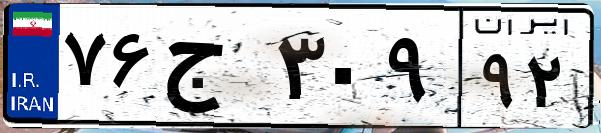0: (330, 28, 385, 110)
2: (525, 38, 570, 115)
3: (270, 28, 330, 110)
6: (110, 28, 158, 98)
7: (57, 26, 110, 100)
9: (385, 28, 445, 110), (475, 38, 525, 113)
ج: (158, 20, 270, 120)
